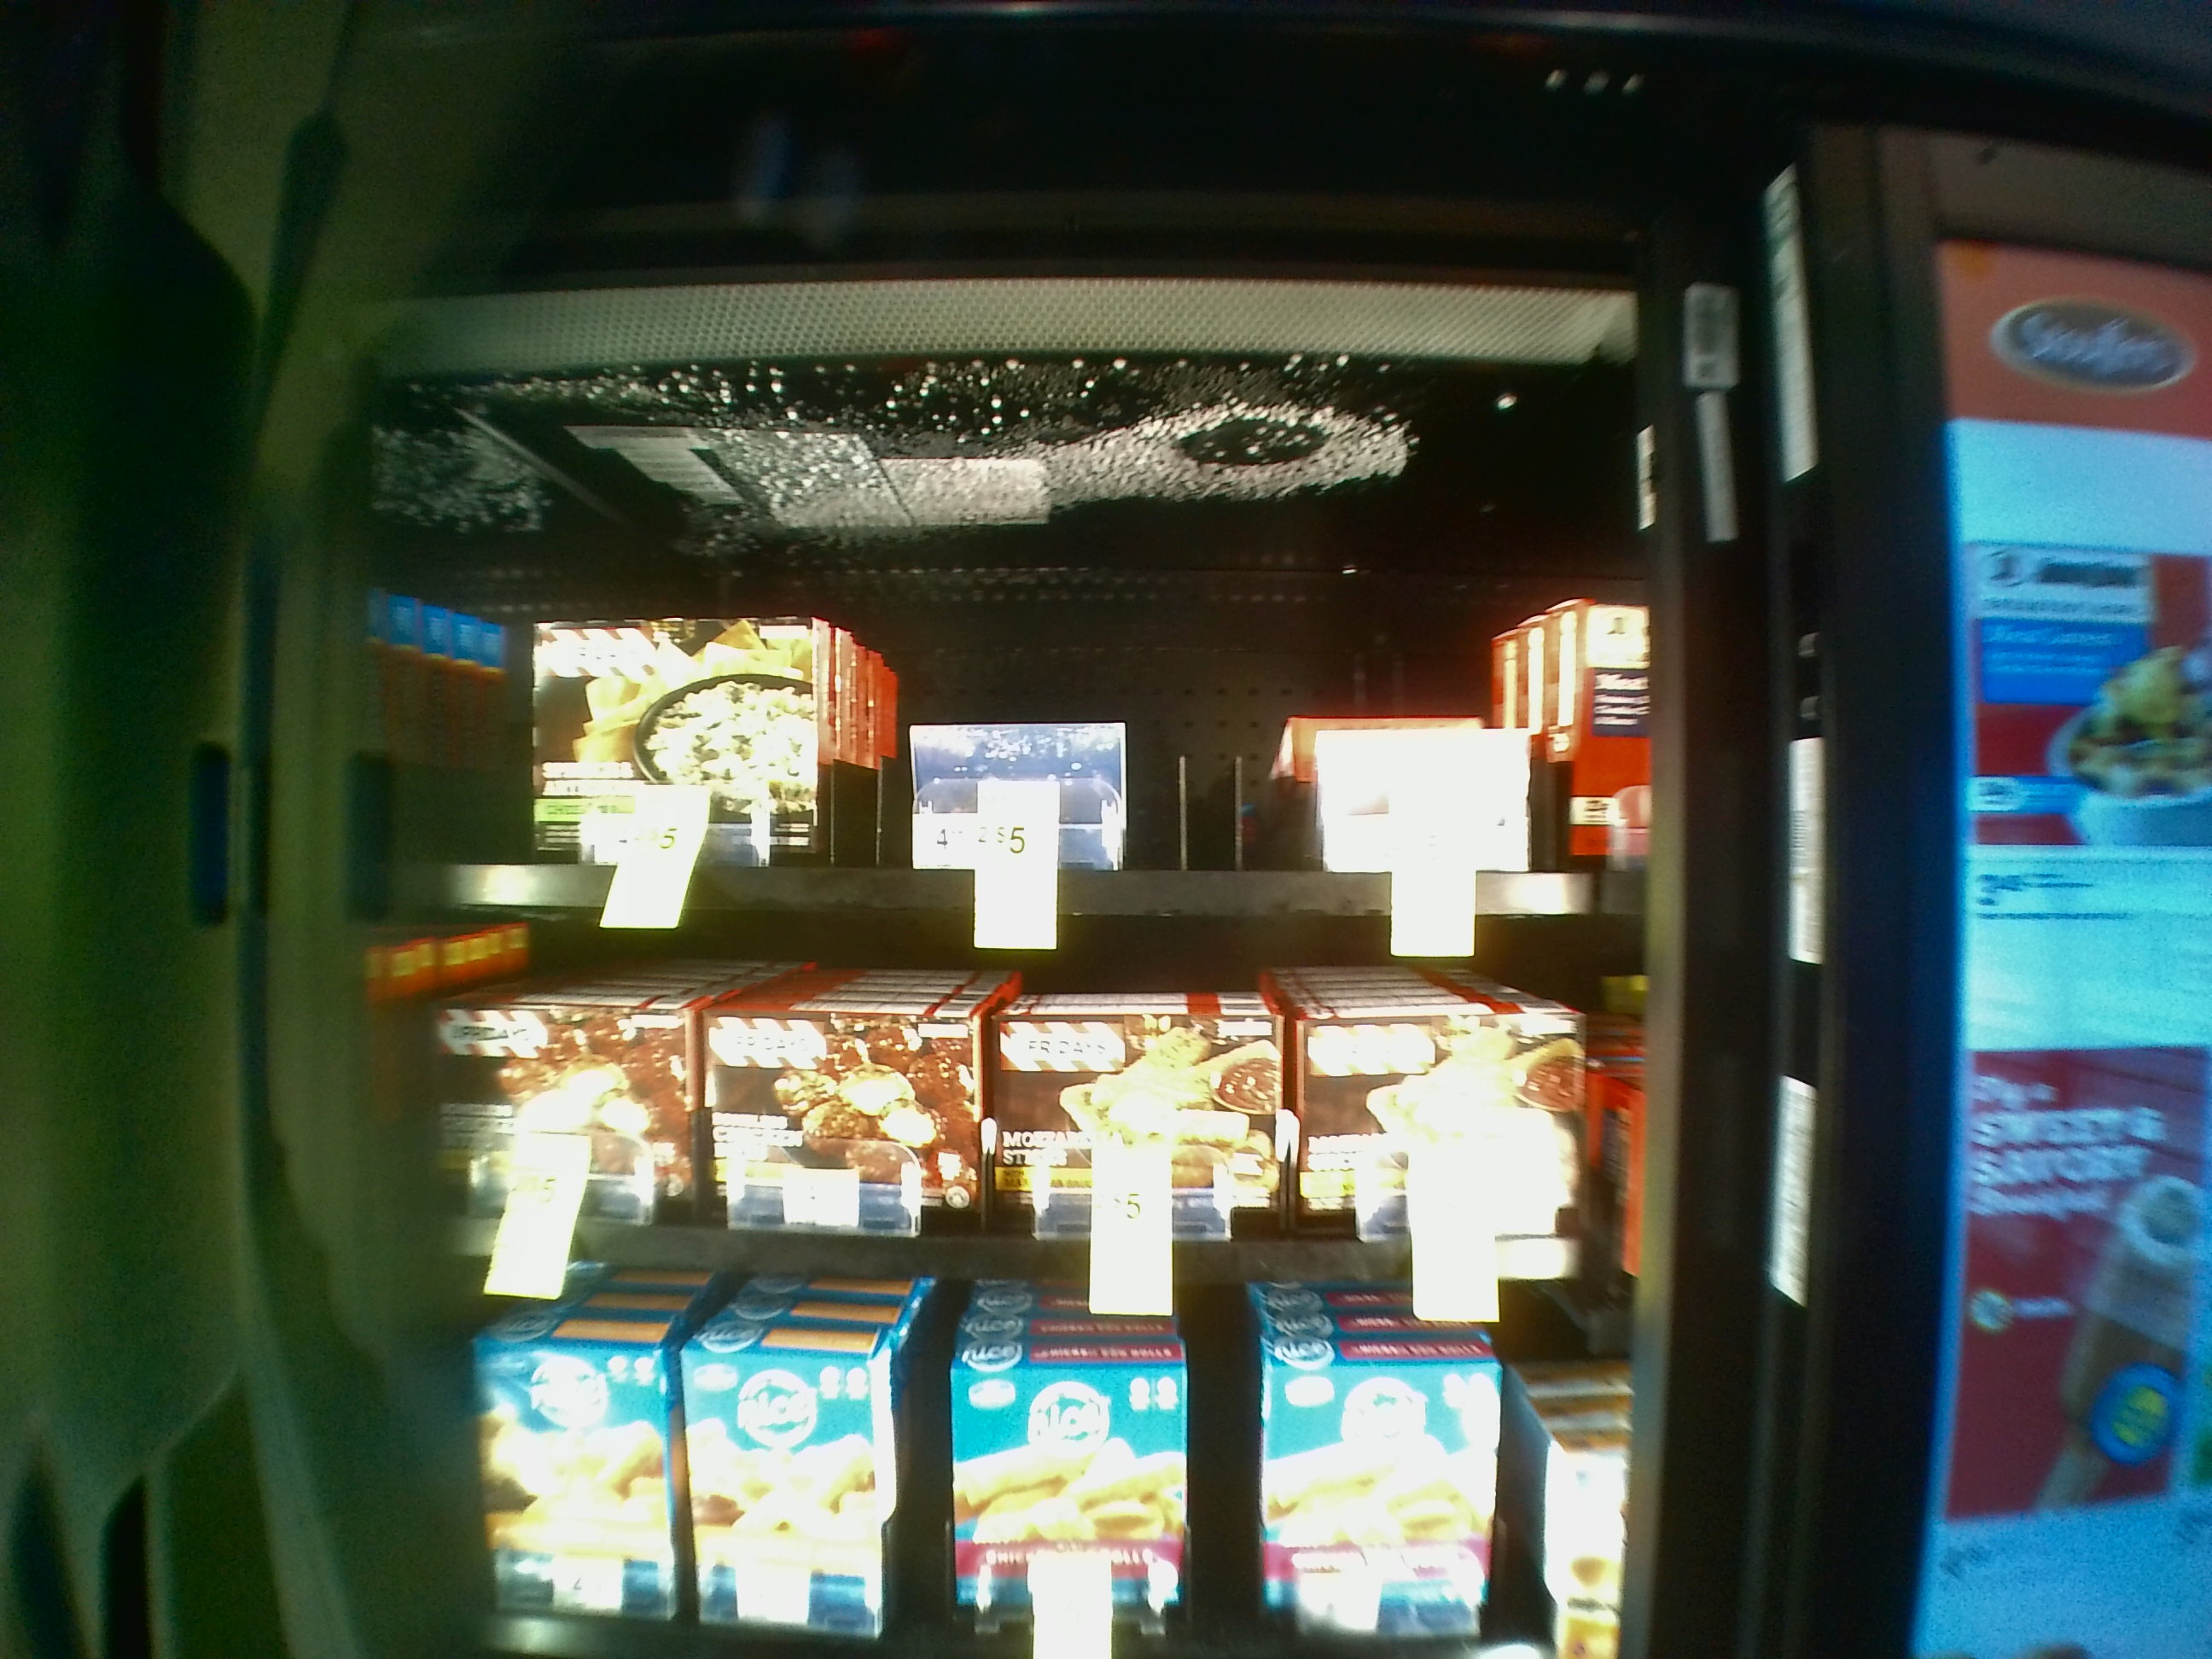shelf: (371, 375, 1639, 915), (376, 929, 1629, 1288)
